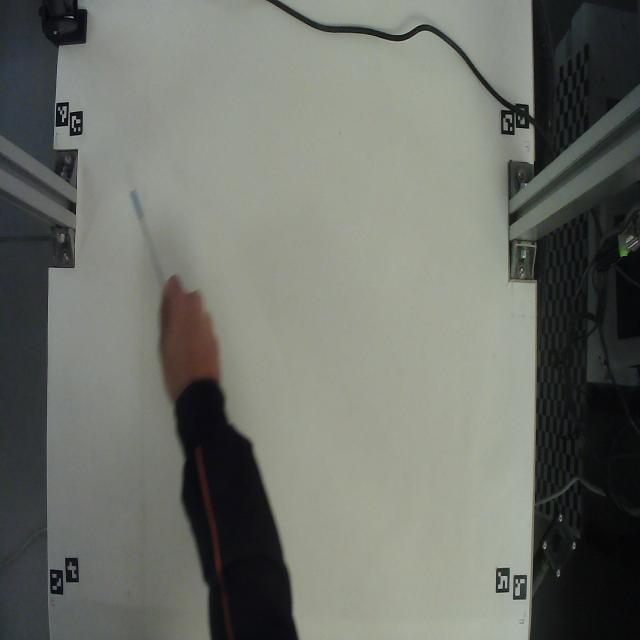NoPres: (122, 180, 172, 305)
